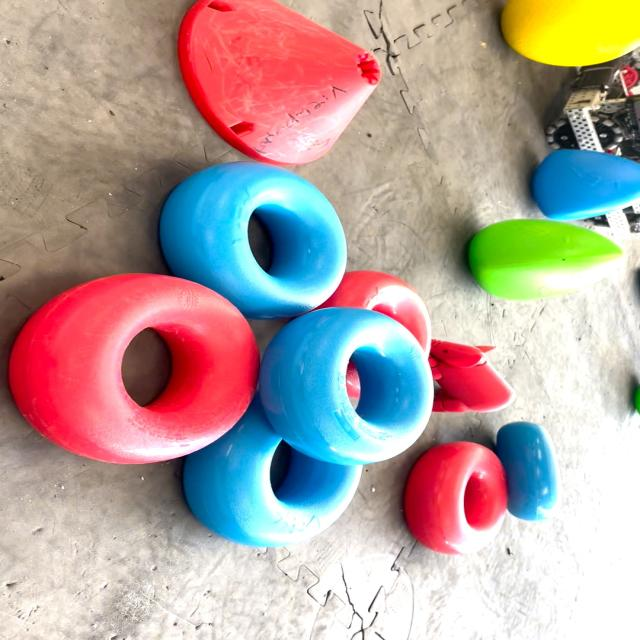Blue-Ring: (160, 162, 347, 319), (260, 308, 433, 465), (184, 396, 362, 548)
Red-Ring: (9, 274, 260, 464), (404, 441, 507, 555)
